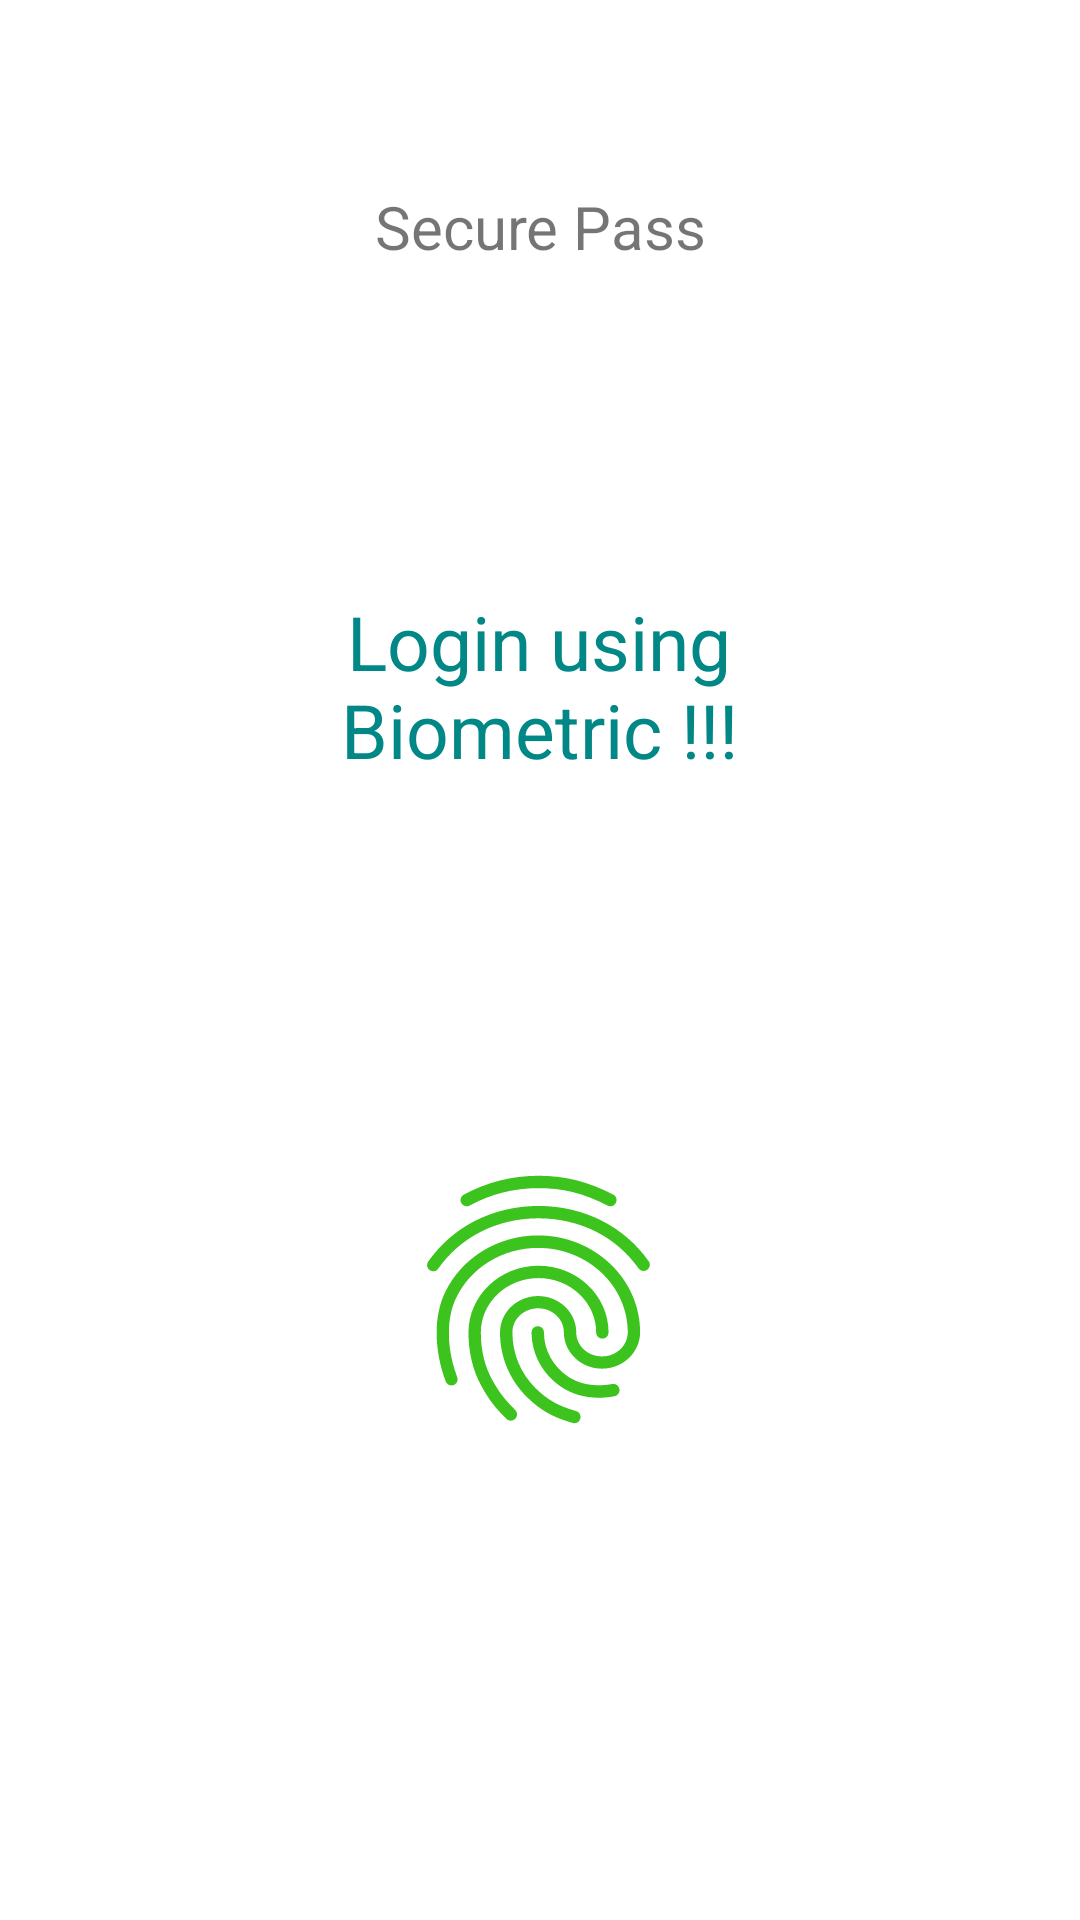

Icons on this 1080 x 1920 Android screen, each with its box as (x1, y1, x2, y2):
fingerprint: (427, 1175, 650, 1424)
